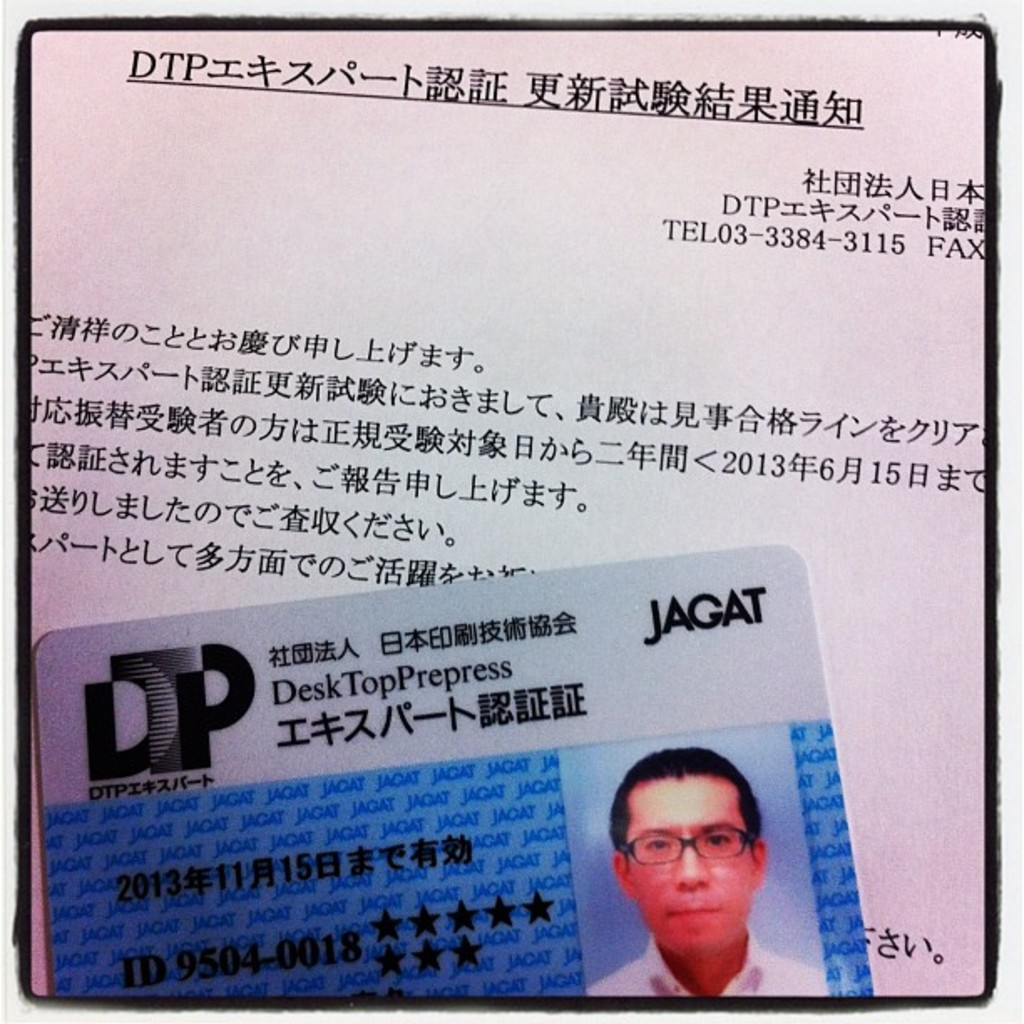Person: (583, 746, 830, 995)
